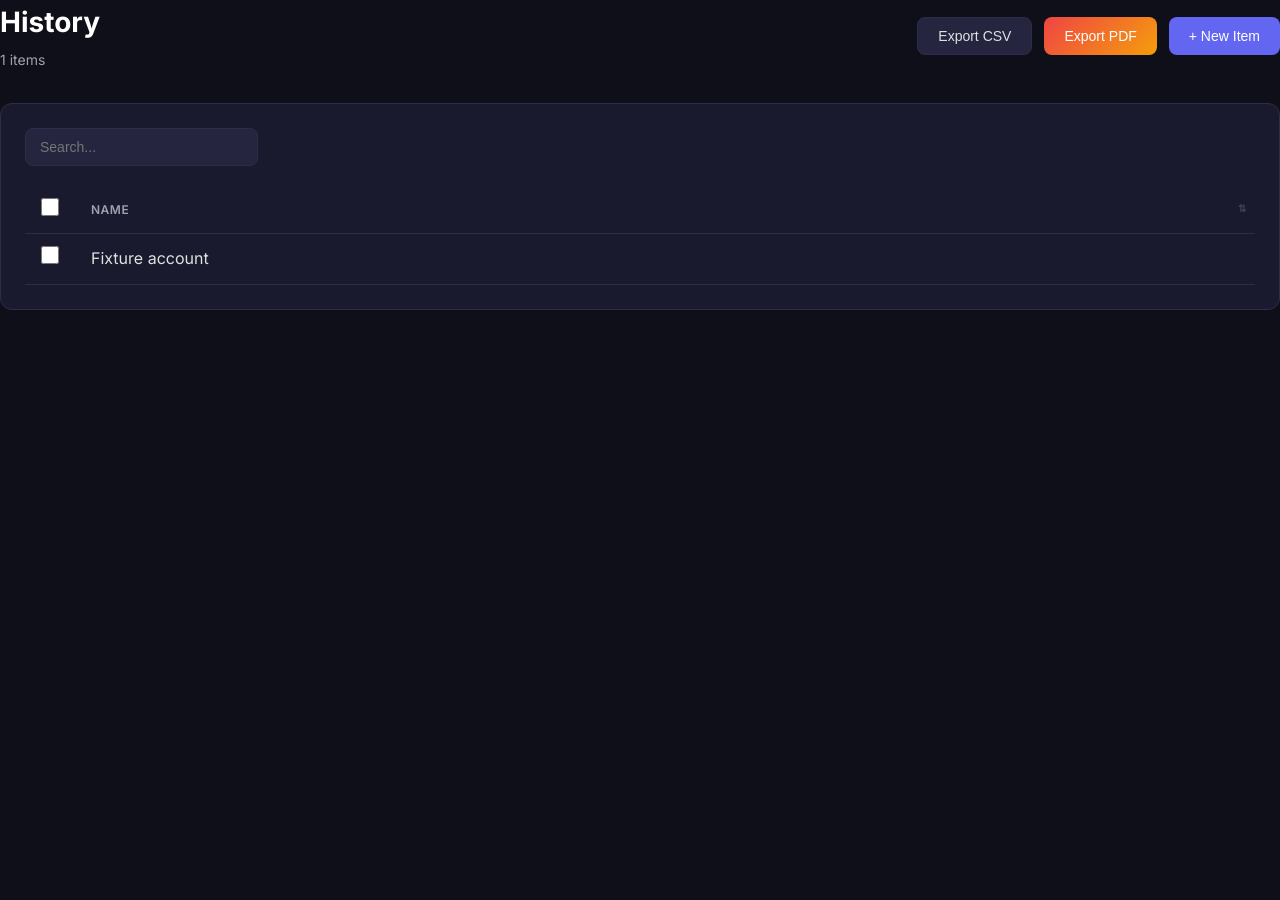
Test: saved history detail renders structured AI data from the record
Click the cell "Fixture account".
click(665, 259)  # box [75,234,1255,284]
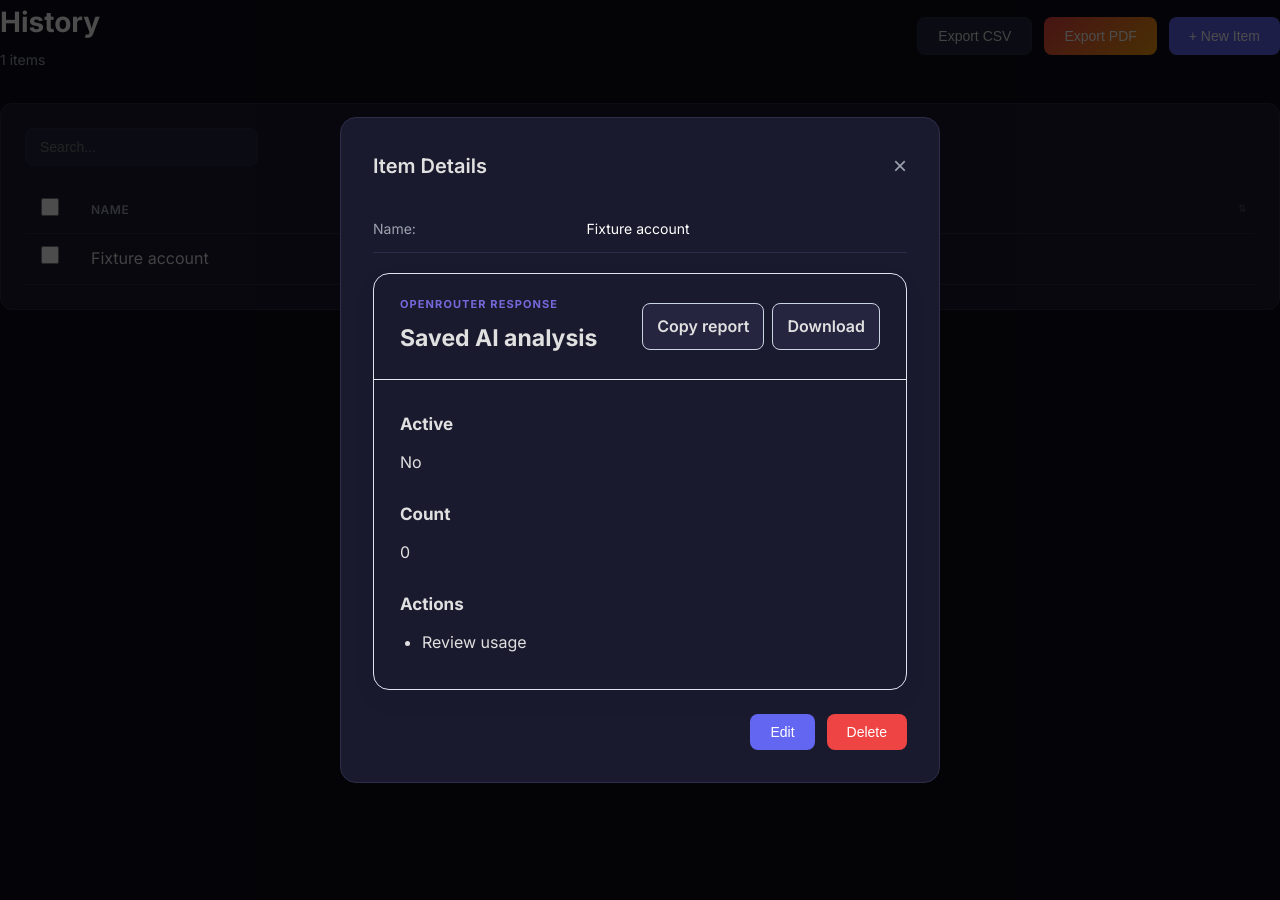
Result: the text "Saved AI analysis" is shown at [400,320,598,357]
Result: the text "Active" is shown at [400,414,453,434]
Result: the text "No" is shown at [400,452,422,472]
